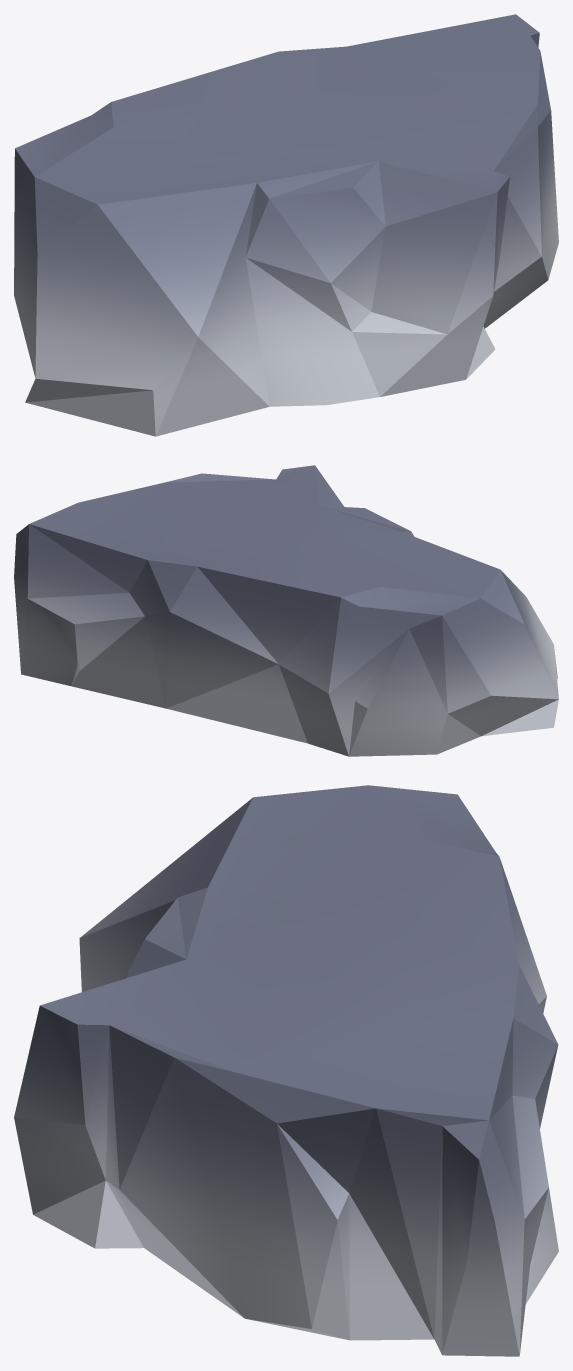
File: Terrain_Stage2_Wall_3.fbx
3 renders of one model, top to bottom at view 1: azimuth 30°, elevation 25°; view 2: azimuth 150°, elevation 25°; view 3: azimuth 270°, elevation 25°, orthographic. The views are drawn at different scales.
Parts seen in each view (by area): view 1: terrain_wall_403_LOD1; view 2: terrain_wall_403_LOD1; view 3: terrain_wall_403_LOD1.
Boxes of the visible parts, bbox=[...] form: terrain_wall_403_LOD1: bbox=[14, 14, 558, 436]; terrain_wall_403_LOD1: bbox=[14, 465, 558, 756]; terrain_wall_403_LOD1: bbox=[14, 785, 558, 1356].
Bounding box in the file's own units: 2885 × 882 × 1746.
Materials: 1 (1 with a texture image).
